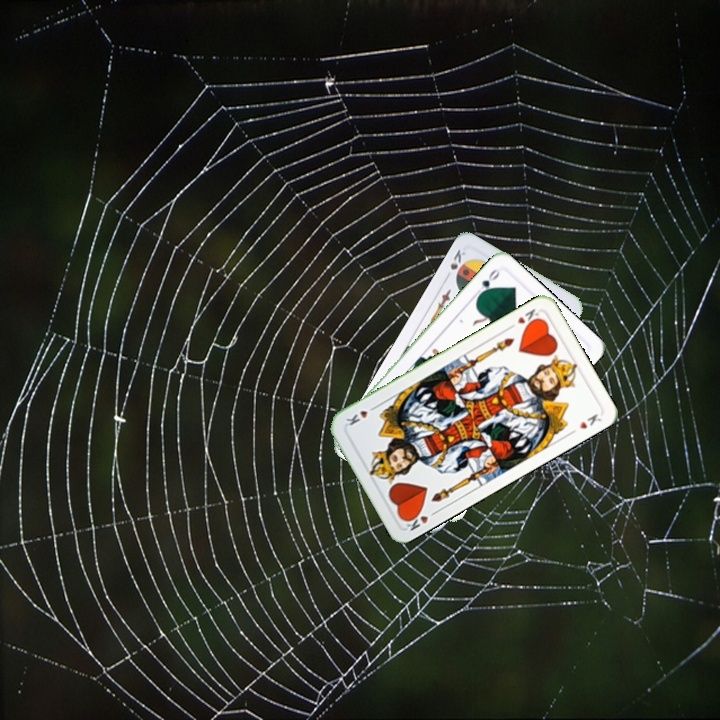GO: (471, 265, 502, 300)
HK: (399, 507, 440, 533), (505, 304, 543, 332)
SK: (446, 245, 468, 272)
